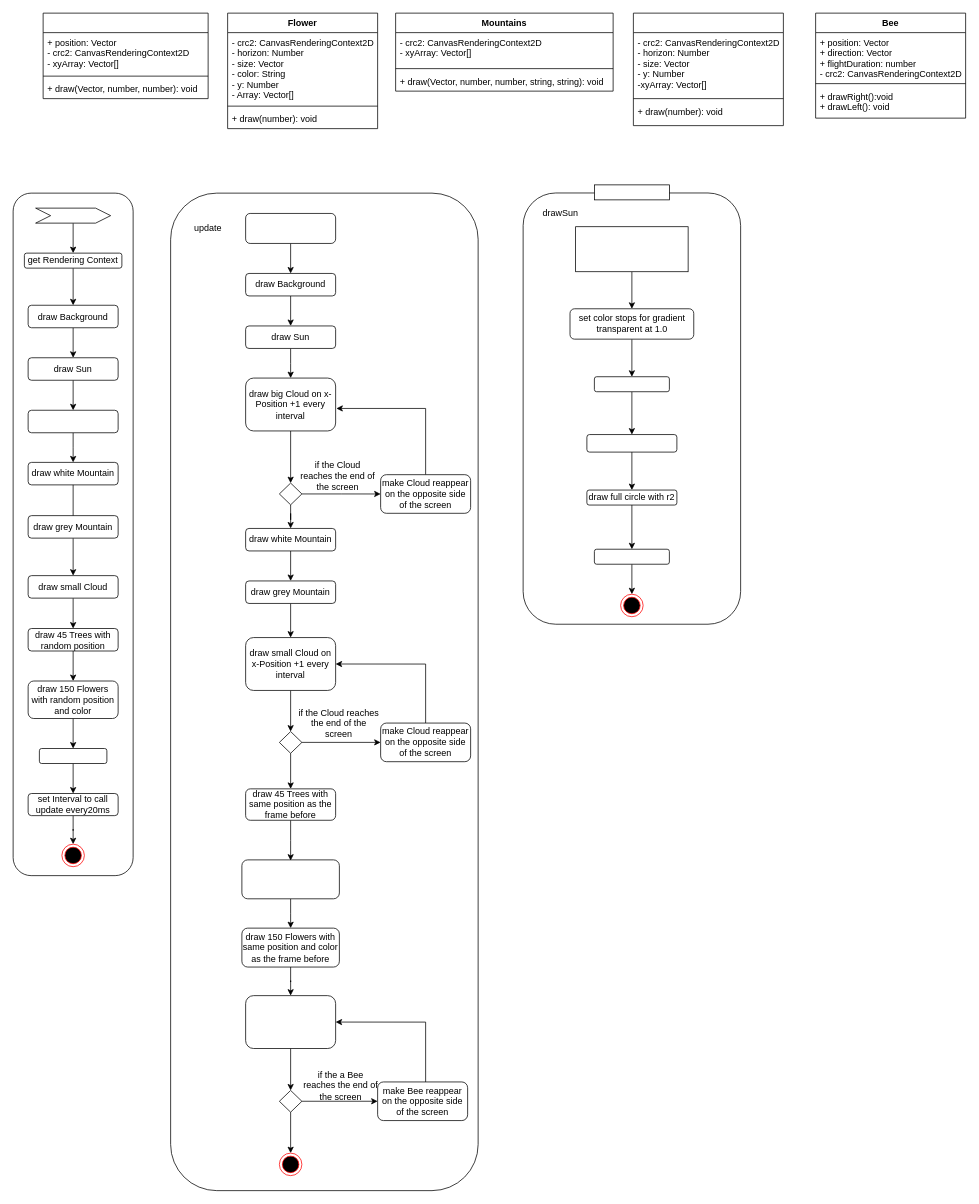
The diagram is 979 pixels wide and 1204 high, and some of its shapes have lost their labels. The shapes that lost their labels are listed below. From the top down, each one's box as (x1, y1, x2, y2) in pixels, then its label:
(42, 12, 208, 99): Clouds
(633, 12, 783, 126): Trees
(594, 184, 669, 200): _position: Vector
(35, 207, 111, 223): onLoad
(245, 213, 336, 243): delete everything on the canvas
(575, 226, 688, 272): r1: number = 125; r2: number = 200; gradient = RadialGradient;
(594, 376, 669, 392): save transform
(27, 410, 118, 433): draw big Cloud
(586, 434, 677, 452): translate to _position
(594, 548, 669, 564): restore transform
(39, 748, 107, 764): draw 4 Bees
(241, 859, 339, 899): give Bee new random direction after 16 Frames
(245, 995, 336, 1048): draw 4 Bees on Position + Direction every interval
